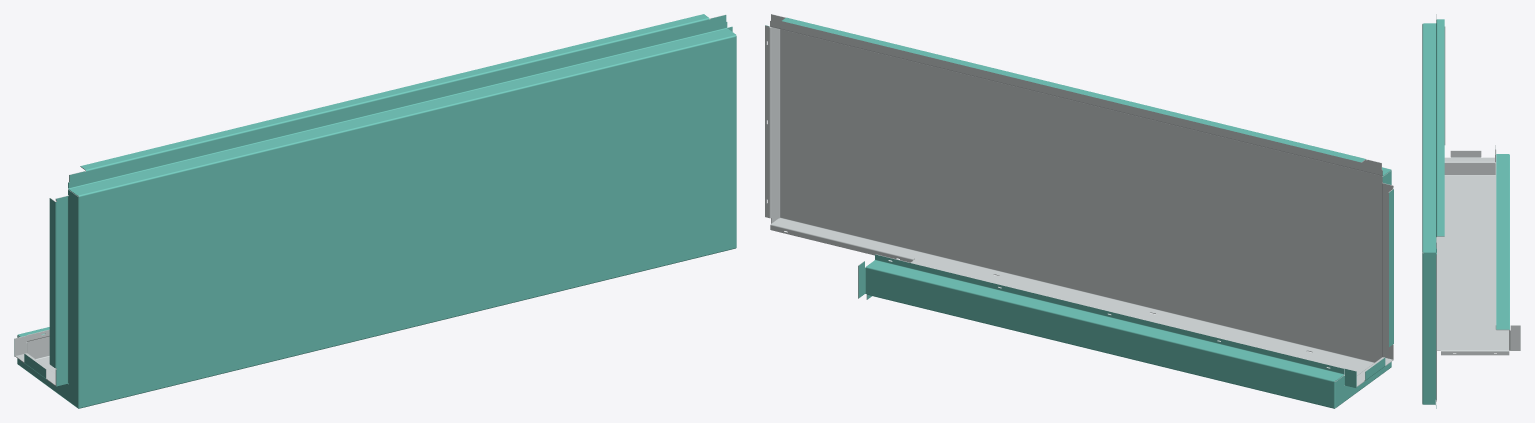
Rendered from panel.glb.
The picture shows the model from 3 angles, left to right: view 1: azimuth 30°, elevation 25°; view 2: azimuth 150°, elevation 25°; view 3: azimuth 270°, elevation 25°; orthographic projection. The views are drawn at different scales.
Parts seen in each view (by area): view 1: face_0_paint, face_4_paint, face_3_paint, face_6_paint, face_7_paint, face_10_paint, bend_1_paint, bend_12_paint, metal_metal, face_12_paint, bend_11_paint, bend_0_paint (+1 smaller); view 2: metal_metal, face_2_paint, face_5_paint, face_6_paint, face_9_paint, bend_8_paint, bend_0_metal, face_12_paint, bend_11_metal, bend_13_paint, face_7_paint, bend_4_paint (+1 smaller); view 3: metal_metal, face_3_paint, face_5_paint, face_8_paint, face_6_paint, bend_1_paint, bend_12_paint, bend_3_paint, bend_11_paint, bend_13_paint, bend_8_paint, bend_17_metal (+2 smaller).
Part boxes in pixels (x1,y1,x2,y2): face_0_paint: (79, 37, 735, 407); face_4_paint: (68, 15, 732, 187); face_3_paint: (69, 26, 735, 195); face_6_paint: (80, 14, 708, 169); face_7_paint: (17, 182, 77, 407); face_10_paint: (56, 196, 68, 386); bend_1_paint: (78, 35, 736, 197); bend_12_paint: (85, 17, 709, 171); metal_metal: (14, 14, 736, 386); face_12_paint: (14, 198, 54, 377); bend_11_paint: (68, 27, 727, 188); bend_0_paint: (79, 248, 735, 408); metal_metal: (765, 14, 1393, 408); face_2_paint: (866, 268, 1333, 407); face_5_paint: (867, 260, 1342, 380); face_6_paint: (782, 17, 1365, 162); face_9_paint: (875, 254, 1343, 373); bend_8_paint: (866, 266, 1334, 382); bend_0_metal: (780, 217, 1374, 363); face_12_paint: (1356, 189, 1393, 387); bend_11_metal: (770, 26, 1382, 175); bend_13_paint: (874, 259, 1343, 374); face_7_paint: (1335, 170, 1391, 407); bend_4_paint: (866, 294, 1334, 408); metal_metal: (1422, 14, 1520, 404); face_3_paint: (1423, 23, 1436, 254); face_5_paint: (1496, 154, 1508, 329); face_8_paint: (1423, 248, 1436, 408); face_6_paint: (1437, 19, 1444, 236); bend_1_paint: (1422, 23, 1423, 252); bend_12_paint: (1436, 19, 1437, 236); bend_3_paint: (1422, 253, 1423, 404); bend_11_paint: (1436, 23, 1436, 252); bend_13_paint: (1496, 154, 1496, 329); bend_8_paint: (1509, 154, 1509, 329); bend_17_metal: (1444, 161, 1494, 163).
Bounding box in the file's own units: 2.03 × 0.67 × 0.358.
